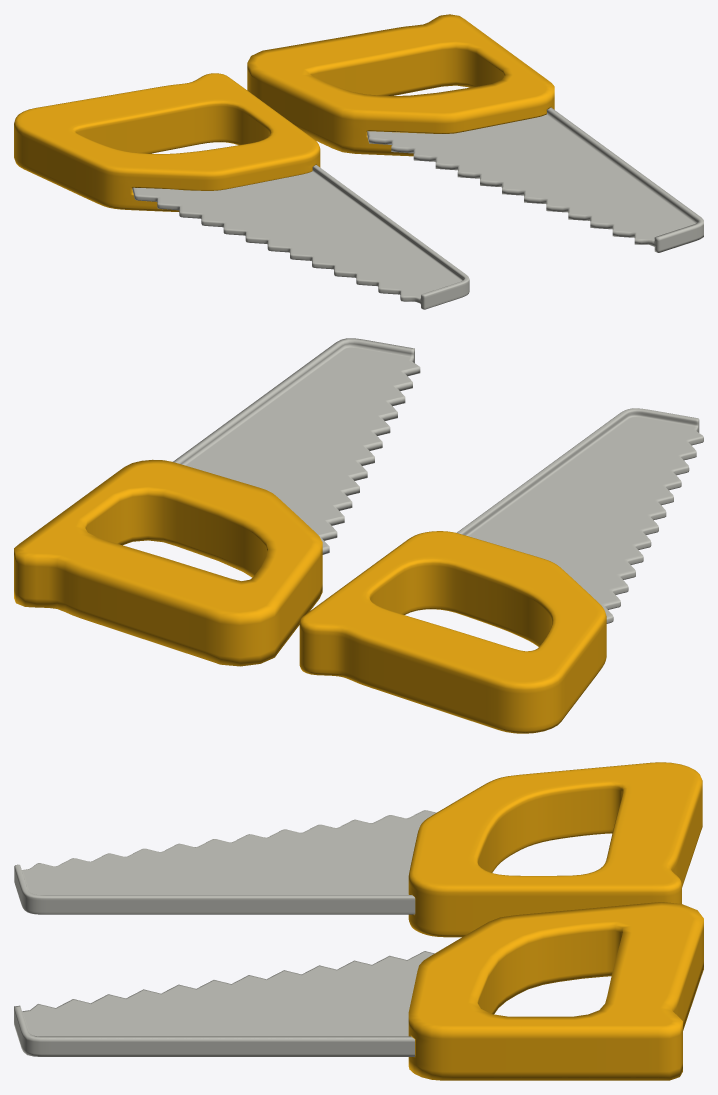
The model's file is Saw.obj.
3 views of the same model, one above another, from view 1: azimuth 30°, elevation 25°; view 2: azimuth 150°, elevation 25°; view 3: azimuth 270°, elevation 25° (orthographic). The views are drawn at different scales.
Parts seen in each view (by area): view 1: Grip_1, Grip, Blade_1, Blade; view 2: Grip_1, Grip, Blade_1, Blade; view 3: Grip_1, Grip, Blade_1, Blade.
Part boxes in pixels (x1,y1,x2,y2): Grip_1: [247, 14, 554, 156]; Grip: [14, 73, 320, 211]; Blade_1: [367, 107, 703, 252]; Blade: [132, 165, 469, 309]; Grip_1: [14, 459, 322, 666]; Grip: [299, 531, 606, 733]; Blade_1: [173, 338, 420, 554]; Blade: [456, 408, 703, 623]; Grip_1: [408, 902, 703, 1080]; Grip: [408, 762, 702, 937]; Blade_1: [14, 951, 434, 1056]; Blade: [14, 810, 436, 914].
Bounding box in the file's own units: 16.8 × 1.48 × 18.19.
